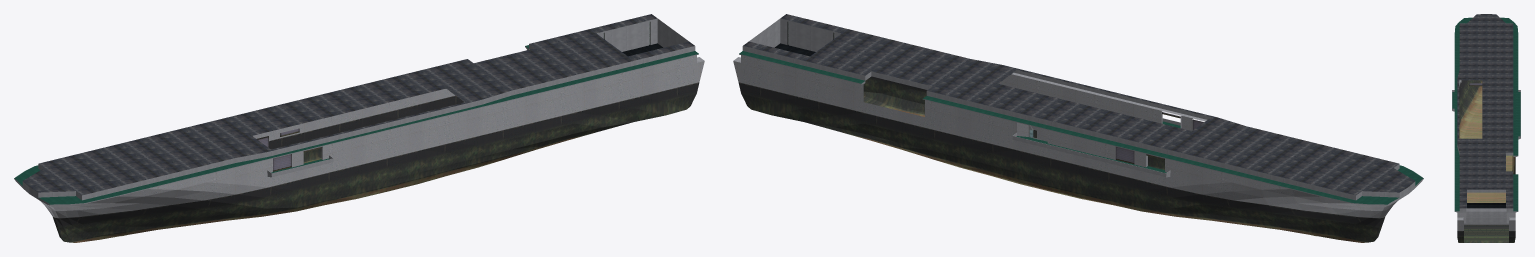
The model's file is carrier_hull_sfse.obj.
The picture shows the model from 3 angles, left to right: view 1: azimuth 30°, elevation 25°; view 2: azimuth 150°, elevation 25°; view 3: azimuth 270°, elevation 25°; orthographic projection. The views are drawn at different scales.
Parts seen in each view (by area): view 1: CARRIER_HULL_SFSe; view 2: CARRIER_HULL_SFSe; view 3: CARRIER_HULL_SFSe.
Boxes of the visible parts, <box> form: CARRIER_HULL_SFSe: <box>14,14,704,242</box>; CARRIER_HULL_SFSe: <box>733,14,1423,242</box>; CARRIER_HULL_SFSe: <box>1452,14,1520,242</box>.
Size of the model in its own units: 225 by 24.05 by 33.3.
Materials: 10 (10 with a texture image).
